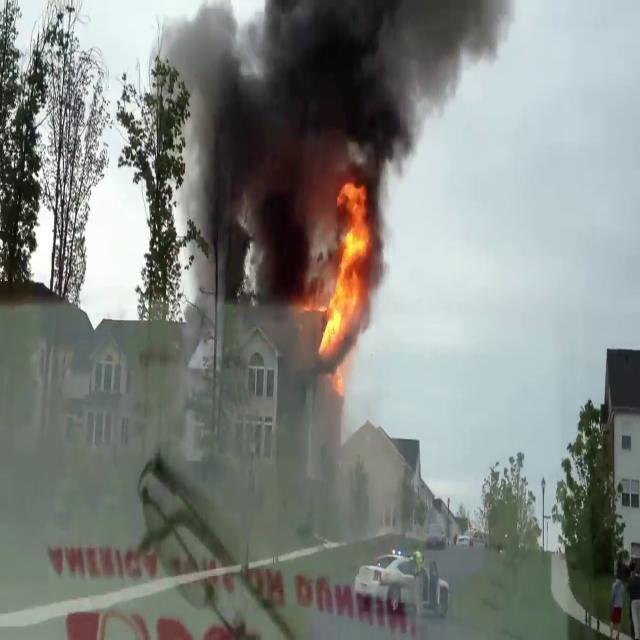Fire: (315, 177, 377, 366)
Smoke: (174, 1, 504, 282)
